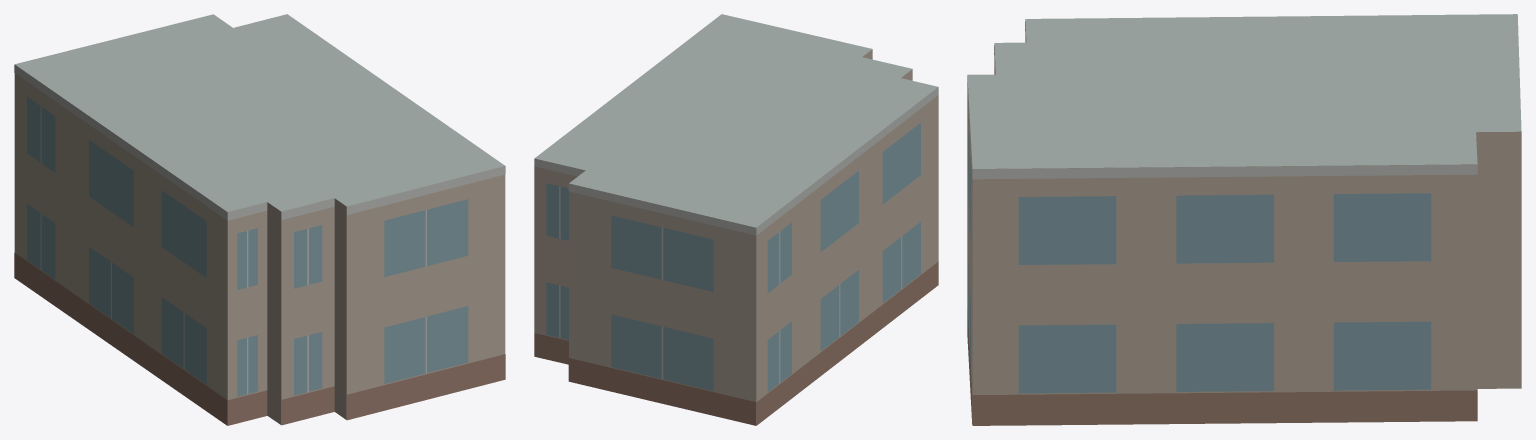
File: survey-upis-32928777.glb
3 renders of one model, left to right at view 1: azimuth 30°, elevation 25°; view 2: azimuth 150°, elevation 25°; view 3: azimuth 270°, elevation 25°, orthographic. The views are drawn at different scales.
Parts seen in each view (by area): view 1: survey-upis-32928777.tmp; view 2: survey-upis-32928777.tmp; view 3: survey-upis-32928777.tmp.
Part boxes in pixels (x1=…): survey-upis-32928777.tmp: x1=14, y1=14, x2=505, y2=425; survey-upis-32928777.tmp: x1=534, y1=14, x2=938, y2=425; survey-upis-32928777.tmp: x1=967, y1=14, x2=1521, y2=425.
Size of the model in its own units: 7.9 by 6.1 by 11.94.
